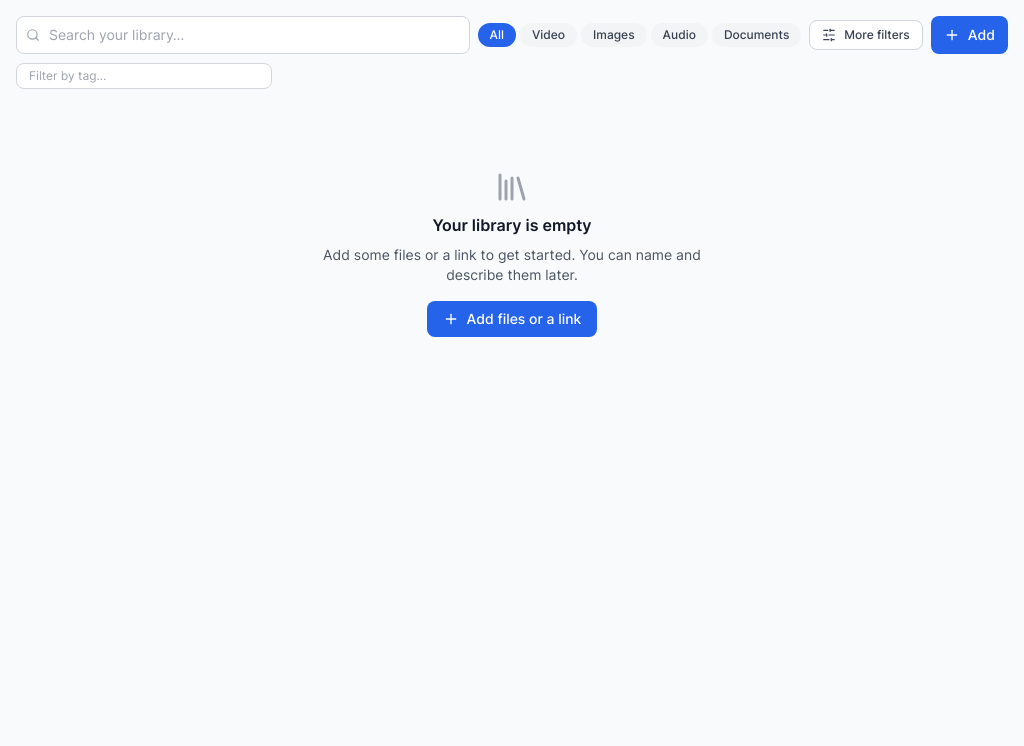
Test case: LibraryView add panel › offers the panel from an empty library instead of pointing above it
What coordinates should you click on to do the following:
click the button "Add files or a link"
I would click on:
 (512, 319)
Its box is [427,301,597,337].
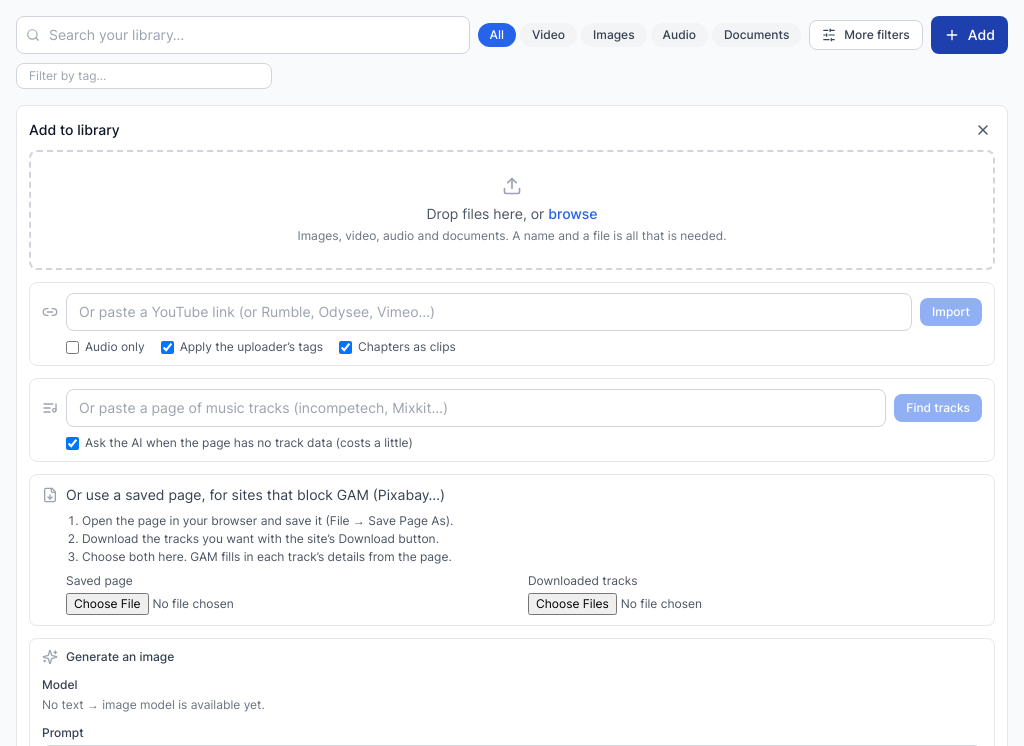
Now the field named "Link to import" is shown, box [66,293,912,331]
Now the button "Add files or a link" is gone
